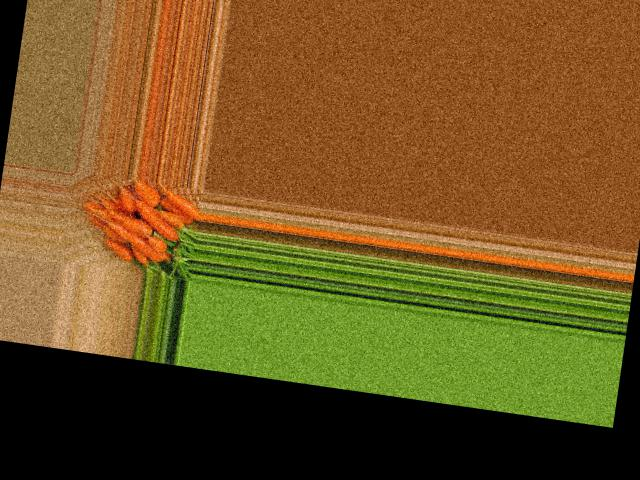carrot: (124, 243, 147, 268)
